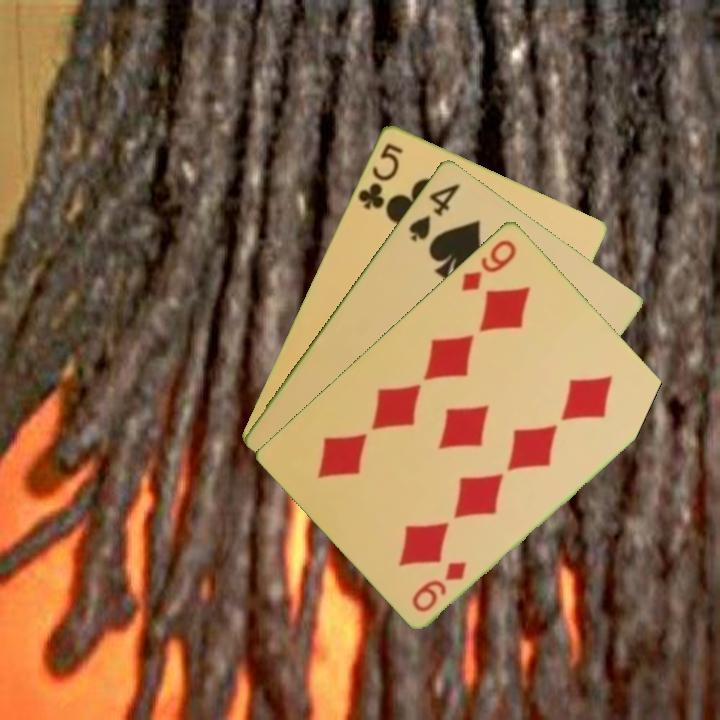4s: (405, 179, 464, 244)
5c: (354, 138, 406, 213)
9d: (457, 235, 519, 294), (408, 557, 470, 615)
